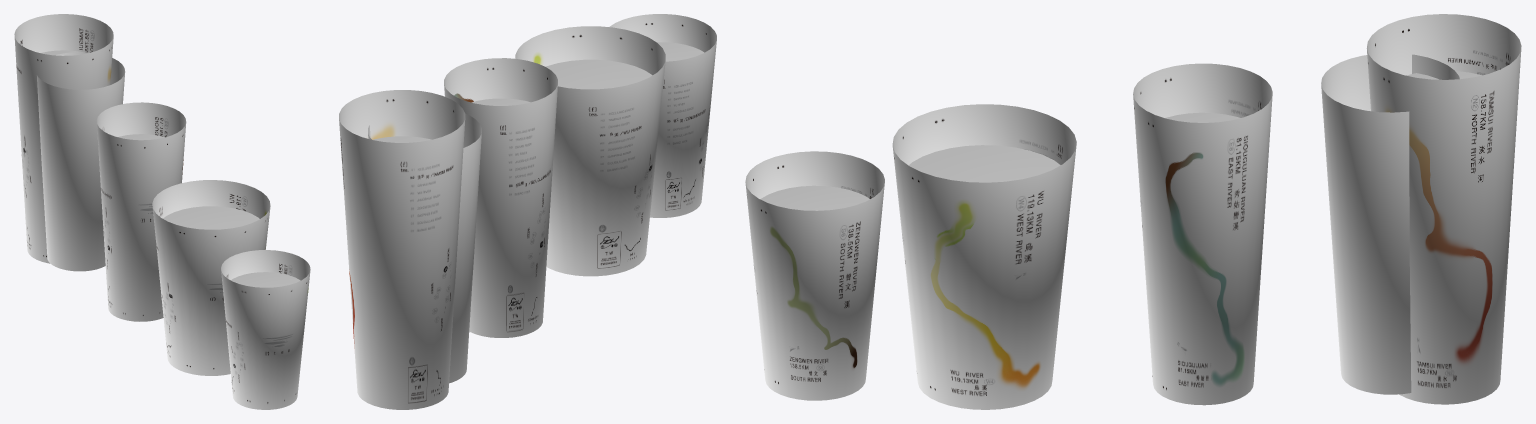
The model's file is asset.glb.
3 views of the same model, side by side, from view 1: azimuth 30°, elevation 25°; view 2: azimuth 150°, elevation 25°; view 3: azimuth 270°, elevation 25° (orthographic). The views are drawn at different scales.
Parts seen in each view (by area): view 1: 透杯, 透杯.002, 圓柱體extra, 透杯.003, 透杯.001, liquid.002, liquid.003; view 2: 透杯.001, 透杯.002, 透杯, 透杯.003, 圓柱體extra, liquid.002, liquid.003, liquid; view 3: 透杯.002, 透杯.001, 透杯, 透杯.003, 圓柱體extra, liquid.002, liquid.003.
Part boxes in pixels (x1,y1,x2,y2): 透杯: (96, 102, 186, 321); 透杯.002: (152, 180, 270, 375); 圓柱體extra: (37, 52, 125, 271); 透杯.003: (221, 250, 310, 409); 透杯.001: (14, 14, 113, 263); liquid.002: (163, 206, 259, 229); liquid.003: (231, 272, 300, 287); 透杯.001: (339, 90, 465, 409); 透杯.002: (515, 26, 665, 276); 透杯: (444, 58, 557, 337); 透杯.003: (609, 14, 716, 217); 圓柱體extra: (368, 113, 481, 383); liquid.002: (545, 59, 652, 89); liquid.003: (657, 42, 704, 61); liquid: (471, 98, 530, 105); 透杯.002: (892, 104, 1076, 409); 透杯.001: (1366, 14, 1521, 404); 透杯: (1133, 63, 1272, 405); 透杯.003: (745, 151, 884, 400); 圓柱體extra: (1321, 54, 1459, 394); liquid.002: (909, 145, 1060, 182); liquid.003: (760, 185, 869, 210).
Bounding box in the file's own units: 0.5462 × 1.1 × 2.3.
Materials: 10 (4 with a texture image).
